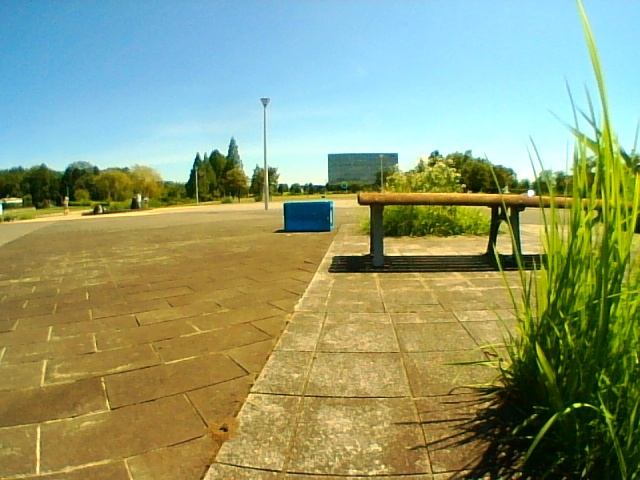blue_box: (284, 202, 334, 230)
tag: (330, 211, 333, 224)
